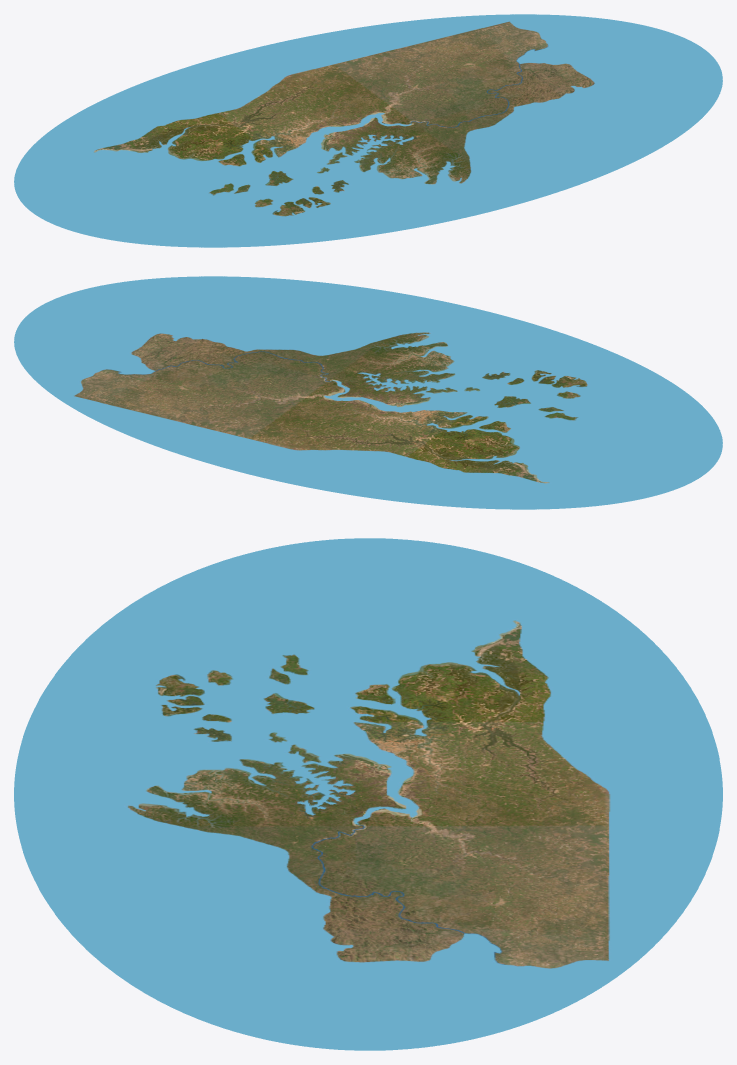
Rendered from GNB-previa-terrain.glb.
The picture shows the model from 3 angles, top to bottom: view 1: azimuth 30°, elevation 25°; view 2: azimuth 150°, elevation 25°; view 3: azimuth 270°, elevation 25°; orthographic projection. The views are drawn at different scales.
Parts seen in each view (by area): view 1: Guiné-Bissau; view 2: Guiné-Bissau; view 3: Guiné-Bissau.
Part boxes in pixels (x1,y1,x2,y2): Guiné-Bissau: [14, 14, 722, 247]; Guiné-Bissau: [14, 276, 722, 509]; Guiné-Bissau: [14, 538, 722, 1050].
Size of the model in its own units: 2.58 by 0.00916 by 1.51.
Materials: 1 (1 with a texture image).
